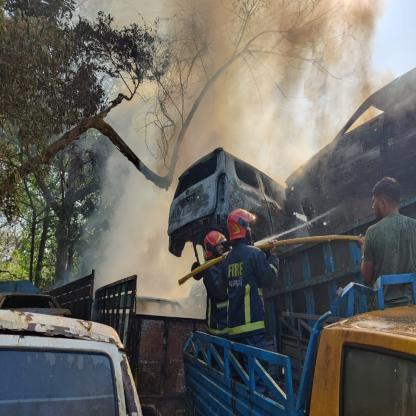Smoke: (81, 0, 382, 296)
